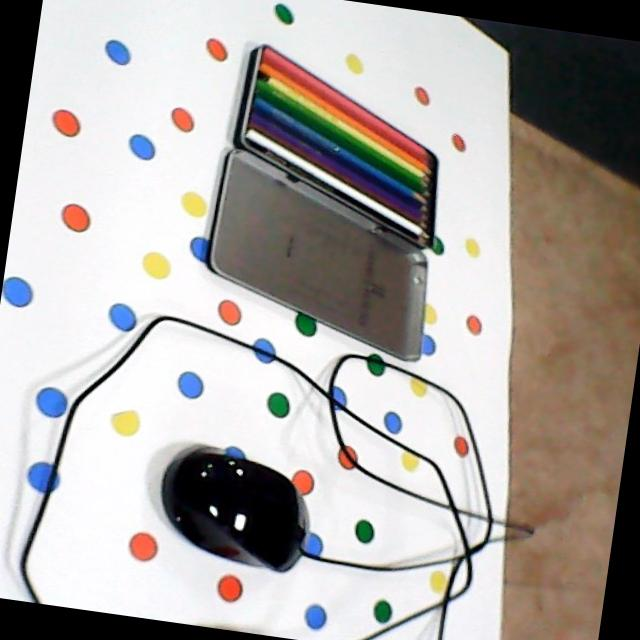color: (214, 32, 446, 259)
mouse: (155, 444, 320, 582)
